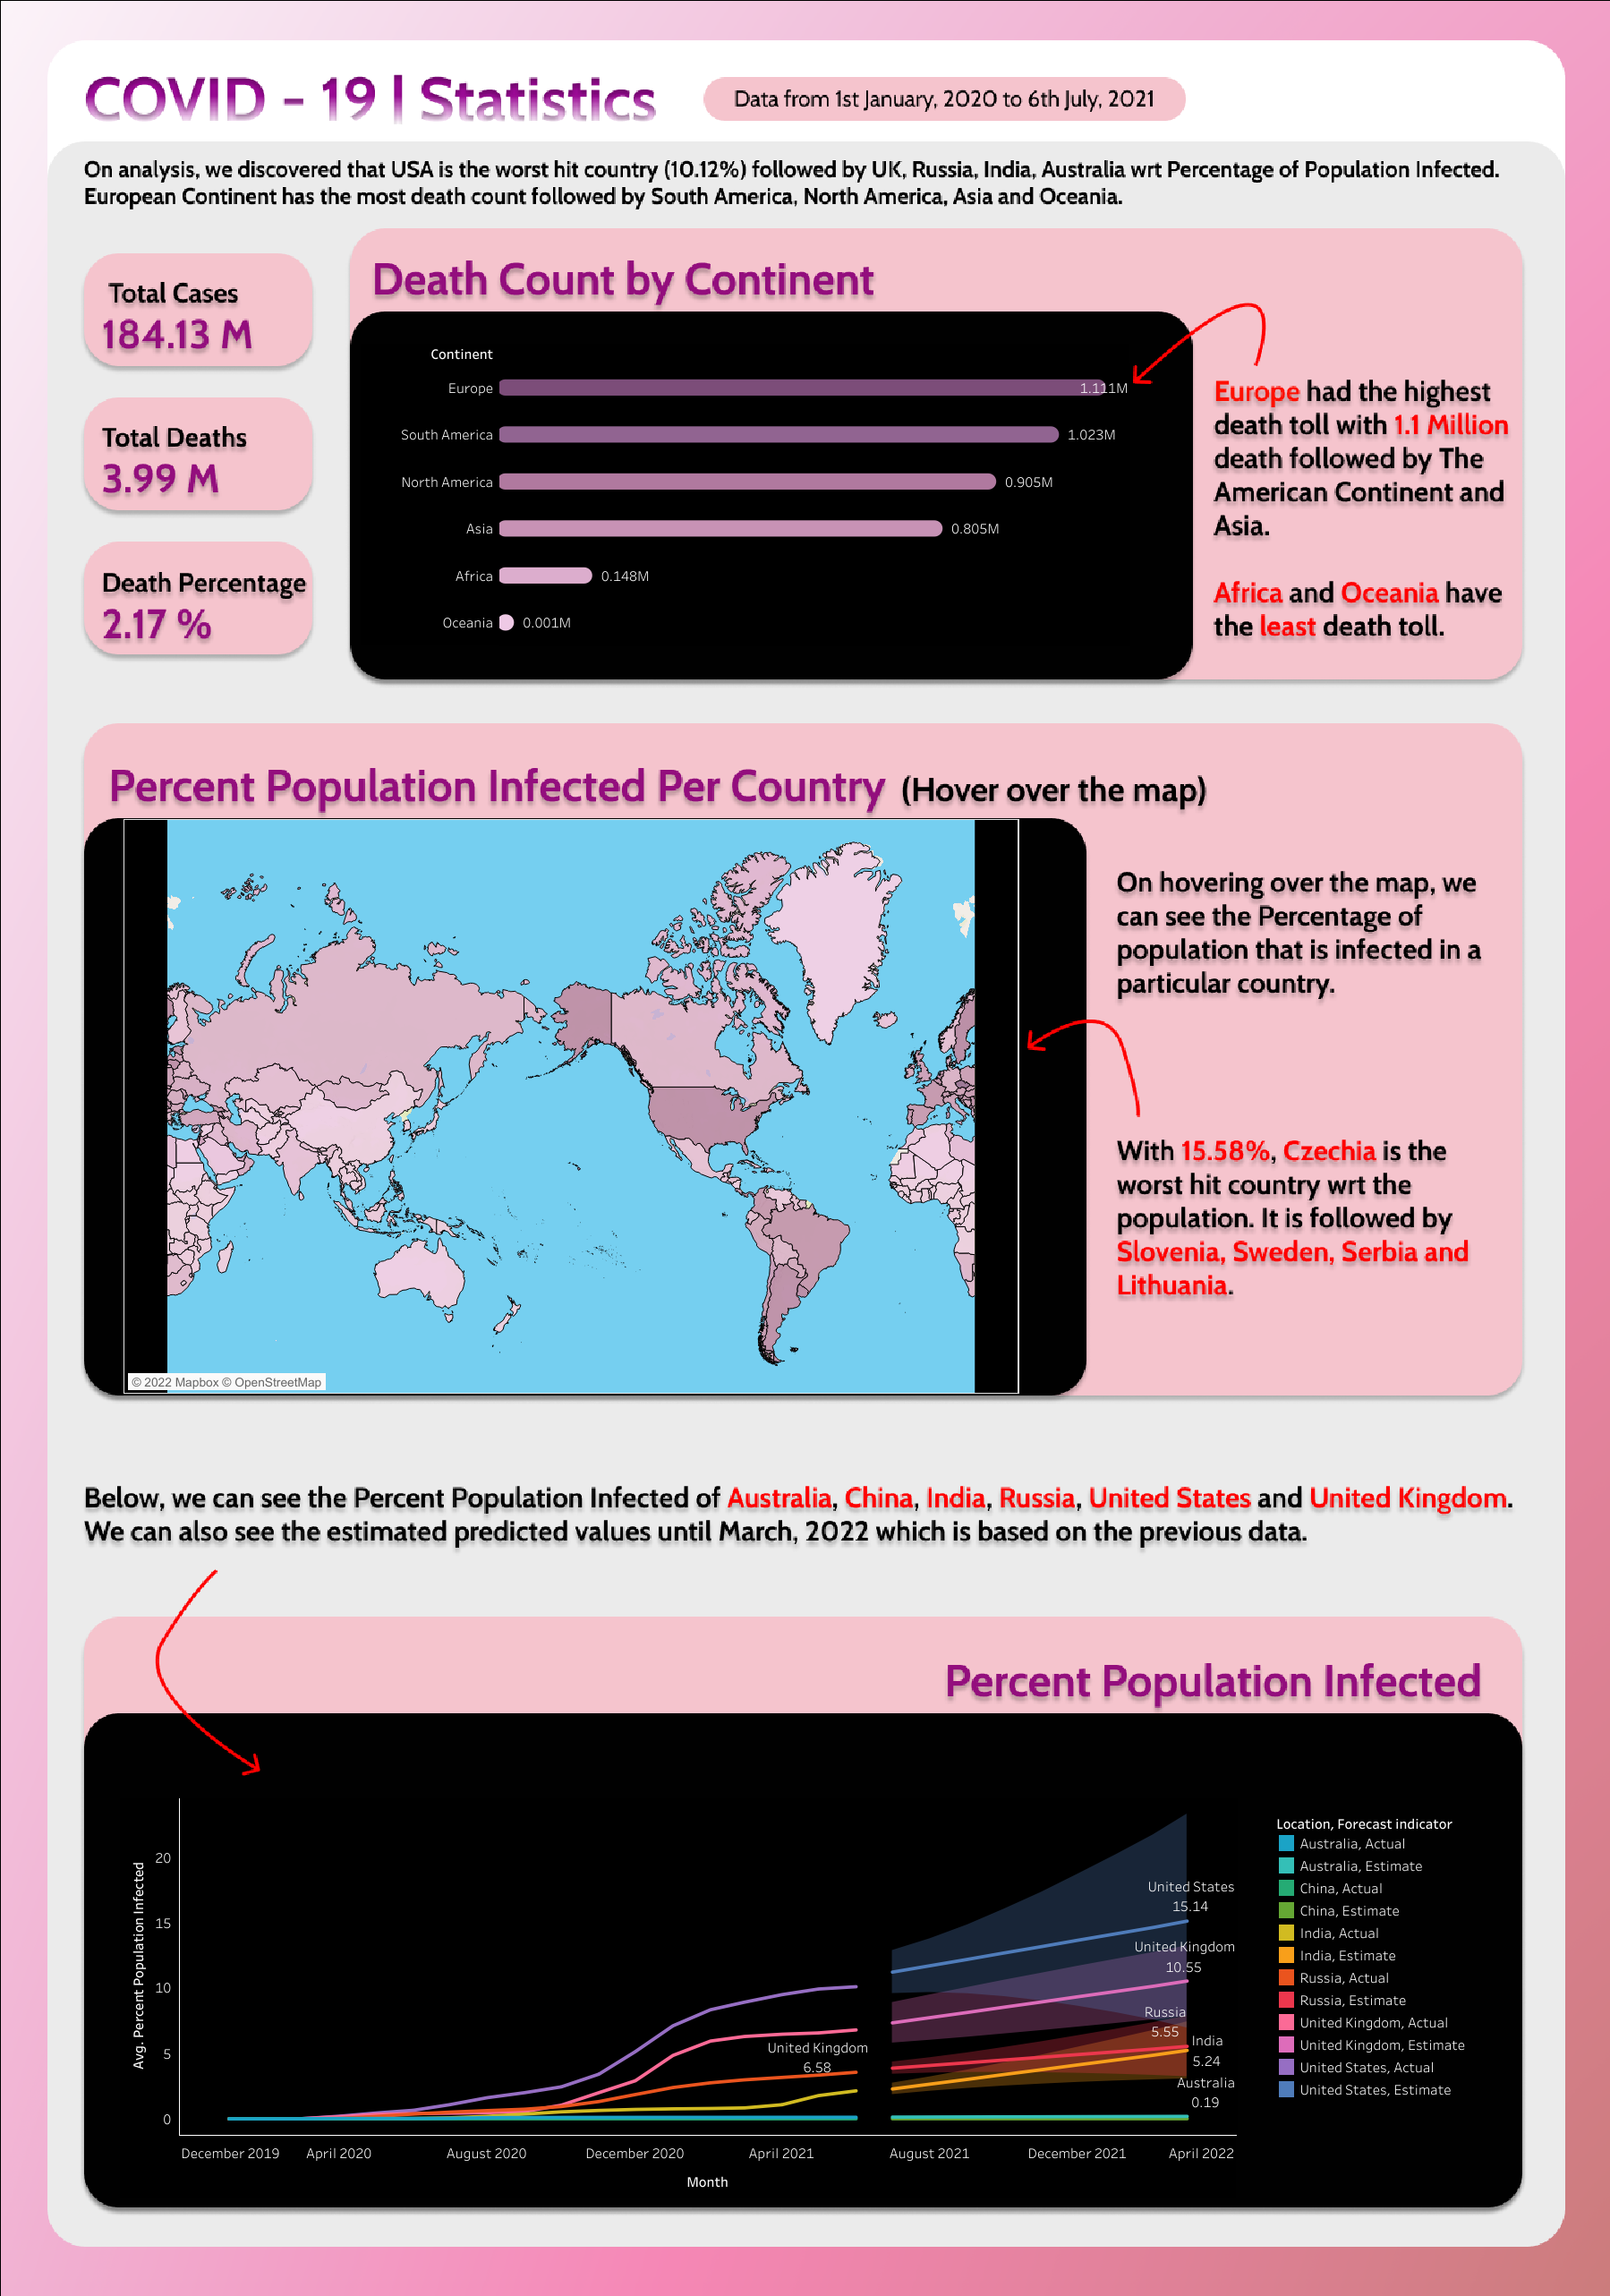

The page's visual inventory and layout, read from the dashboard file:
{"tool":"tableau","page":{"name":"Dashboard 2","canvas":[1440,2053],"ordinal":1},"visuals":[{"type":"worksheet","title":"Sheet 2","mark":"Line","rows":["location"],"box":[322,307,698,276]},{"type":"worksheet","title":"Sheet 3","mark":"Automatic","box":[110,732,801,514]},{"type":"worksheet","title":"Sheet 4","mark":"Automatic","rows":["PercentPopulationInfected"],"cols":["date"],"box":[107,1607,998,358]},{"type":"legend","title":"Sheet 4","param":"[federated.1e98ksg0marzia1ch1tyg1c4gguv].[none:Location:nk]\n[federated.1e98ksg0m","box":[1140,1618,212,274]}]}

Visuals, with their boxes in screenshot pixels (x1, y1, x2, y2), scaled from the page's 1440x2053 canvas onto the 1610x2296 screenshot:
"Sheet 2" worksheet (Line marks): 360:344:1140:652
"Sheet 3" worksheet: 123:819:1018:1394
"Sheet 4" worksheet: 120:1797:1235:2198
"Sheet 4" legend: 1274:1810:1512:2116
